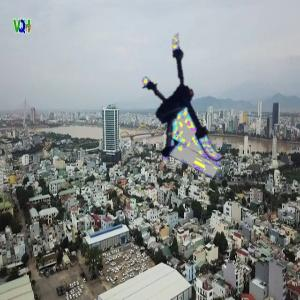drone: (118, 38, 246, 166)
